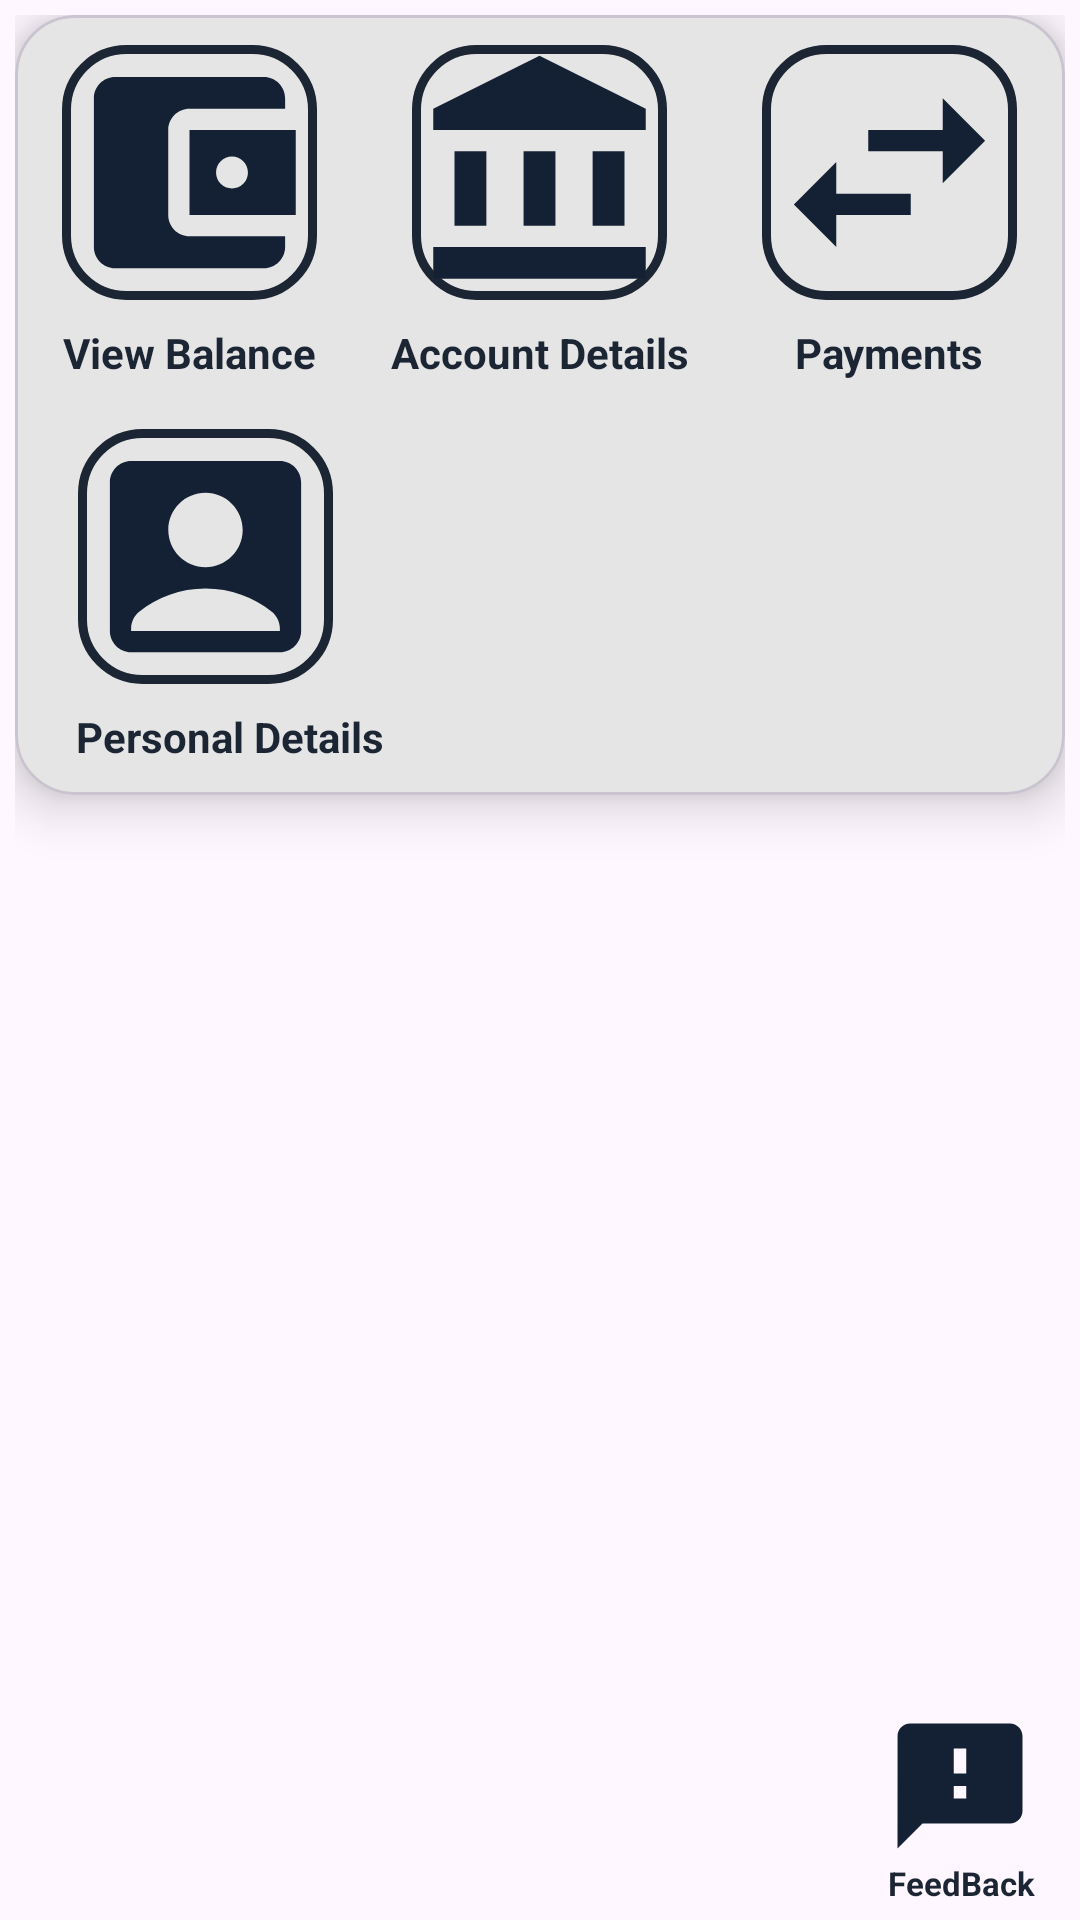

Named icons in this screenshot (1080 x 1920) and their bounding boxes, (x1, y1, x2, y2):
account balance: (412, 45, 667, 300)
account balance wallet: (62, 45, 317, 300)
account box: (78, 429, 333, 684)
swap horiz: (762, 45, 1017, 300)
